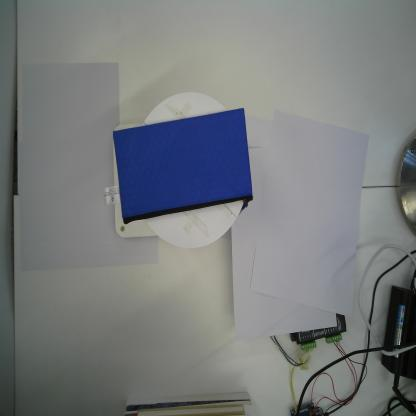Stationery: (112, 108, 254, 224)
